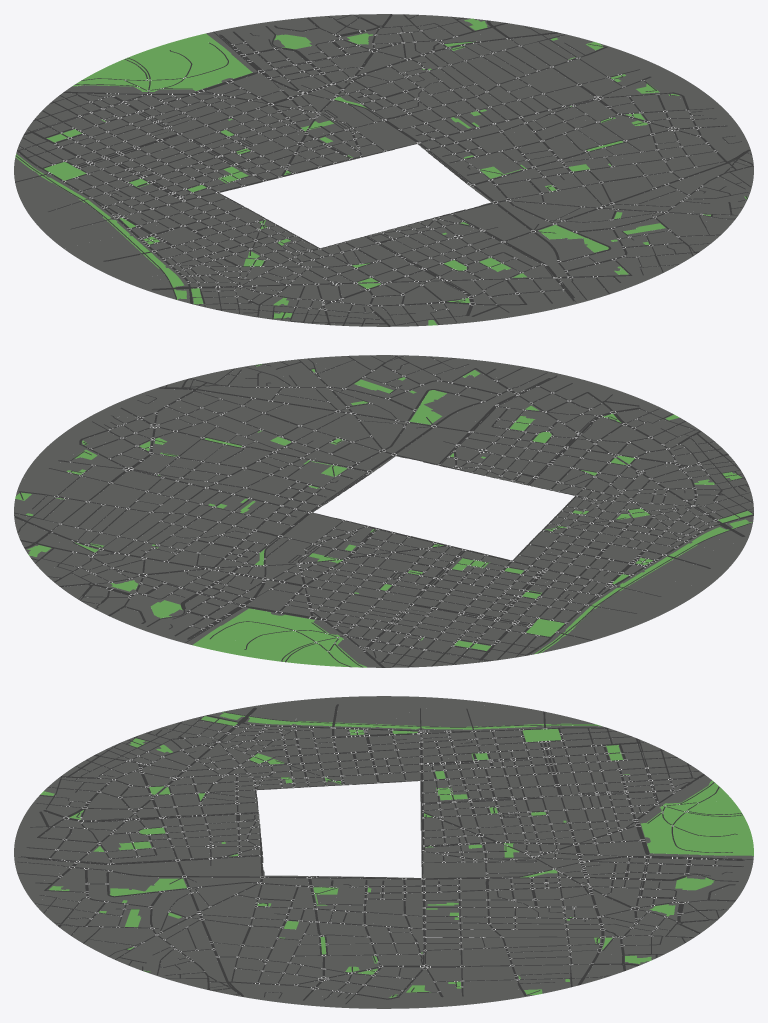
Rendered from voirie_parcs.glb.
3 views of the same model, one above another, from view 1: azimuth 30°, elevation 25°; view 2: azimuth 150°, elevation 25°; view 3: azimuth 270°, elevation 25° (orthographic).
Visible parts, largest first — view 1: Voirie_2_0, Voirie_1_-2, Voirie_-1_-3, Voirie_-2_-2, Voirie_1_1, Voirie_-1_2, Voirie_2_-1, Voirie_-3_-1, Voirie_-1_-2, Voirie_0_2, Voirie_-2_1, Voirie_0_-2 (+31 smaller); view 2: Voirie_2_0, Voirie_1_-2, Voirie_-1_-3, Voirie_-2_-2, Voirie_1_1, Voirie_2_-1, Voirie_-1_2, Voirie_-3_-1, Voirie_-1_-2, Voirie_0_2, Voirie_-2_1, Voirie_0_-2 (+31 smaller); view 3: Voirie_2_0, Voirie_-1_-3, Voirie_1_-2, Voirie_-2_-2, Voirie_2_-1, Voirie_-3_-1, Voirie_1_1, Voirie_-1_2, Voirie_-1_-2, Voirie_0_2, Voirie_-2_1, Voirie_0_-2 (+31 smaller).
Boxes of the visible parts, <box> form: Voirie_2_0: <box>578,96,728,163</box>; Voirie_1_-2: <box>363,42,527,107</box>; Voirie_-1_-3: <box>110,46,279,112</box>; Voirie_-2_-2: <box>73,110,231,176</box>; Voirie_1_1: <box>542,164,683,227</box>; Voirie_-1_2: <box>393,253,544,316</box>; Voirie_2_-1: <box>520,53,673,125</box>; Voirie_-3_-1: <box>22,174,189,238</box>; Voirie_-1_-2: <box>178,90,330,152</box>; Voirie_0_2: <box>496,228,643,296</box>; Voirie_-2_1: <box>246,240,404,299</box>; Voirie_0_-2: <box>275,65,427,129</box>; Voirie_2_0: <box>86,399,244,465</box>; Voirie_1_-2: <box>78,501,232,571</box>; Voirie_-1_-3: <box>214,589,364,663</box>; Voirie_-2_-2: <box>363,576,517,641</box>; Voirie_1_1: <box>245,386,396,444</box>; Voirie_2_-1: <box>21,442,191,506</box>; Voirie_-1_2: <box>495,392,649,452</box>; Voirie_-3_-1: <box>517,557,660,627</box>; Voirie_-1_-2: <box>271,550,422,616</box>; Voirie_0_2: <box>391,364,551,427</box>; Voirie_-2_1: <box>543,451,689,517</box>; Voirie_0_-2: <box>167,526,324,595</box>; Voirie_2_0: <box>264,944,396,999</box>; Voirie_-1_-3: <box>600,801,735,855</box>; Voirie_1_-2: <box>486,894,620,949</box>; Voirie_-2_-2: <box>491,755,615,810</box>; Voirie_2_-1: <box>375,944,511,1001</box>; Voirie_-3_-1: <box>369,703,499,761</box>; Voirie_1_1: <box>152,893,283,949</box>; Voirie_-1_2: <box>38,799,163,855</box>; Voirie_-1_-2: <box>481,797,613,854</box>; Voirie_0_2: <box>30,849,163,906</box>; Voirie_-2_1: <box>149,754,280,807</box>; Voirie_0_-2: <box>487,852,618,906</box>.
Size of the model in its own units: 3300 by 0.0852 by 3300.
